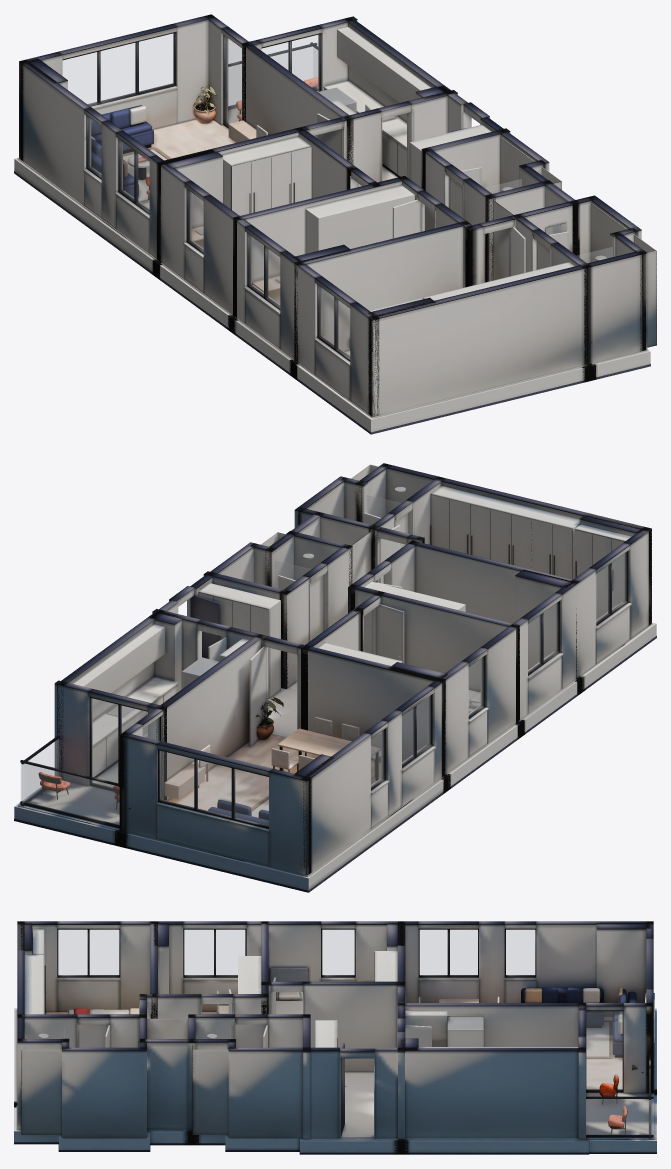
3 views of the same model, one above another, from view 1: azimuth 30°, elevation 25°; view 2: azimuth 150°, elevation 25°; view 3: azimuth 270°, elevation 25° (orthographic). The views are drawn at different scales.
Visible parts, largest first — view 1: plan, glass0_m, glass2_m, glass7_m, glass6_m, glass1_m, glass4_m, railg0_m, glass5_m, glass3_m; view 2: plan, glass0_m, railg0_m, glass2_m, glass7_m, glass6_m, glass4_m, railg5_m, glass5_m, glass3_m; view 3: plan, glass1_m, glass7_m, glass4_m, glass6_m, railg5_m, glass5_m, glass3_m.
Boxes of the visible parts, x1,y1,x2,y2 form: plan: (14, 14, 656, 434); glass0_m: (63, 33, 173, 104); glass2_m: (262, 35, 319, 91); glass7_m: (319, 286, 349, 357); glass6_m: (249, 235, 279, 306); glass1_m: (225, 37, 241, 124); glass4_m: (120, 141, 149, 211); railg0_m: (229, 47, 312, 105); glass5_m: (189, 191, 203, 250); glass3_m: (88, 117, 101, 175); plan: (14, 463, 656, 892); glass0_m: (160, 751, 268, 826); railg0_m: (21, 764, 119, 824); glass2_m: (92, 698, 147, 787); glass7_m: (596, 552, 626, 622); glass6_m: (528, 603, 557, 672); glass4_m: (402, 696, 430, 764); railg5_m: (22, 739, 58, 803); glass5_m: (469, 657, 483, 715); glass3_m: (371, 730, 383, 787); plan: (14, 921, 656, 1154); glass1_m: (586, 1011, 622, 1089); glass7_m: (58, 930, 118, 975); glass4_m: (420, 930, 477, 975); glass6_m: (184, 930, 244, 975); railg5_m: (586, 1099, 653, 1134); glass5_m: (322, 930, 354, 975); glass3_m: (506, 930, 534, 975).
Bounding box in the file's own units: 7.38 × 2.62 × 15.06.
Materials: 2 (1 with a texture image).
